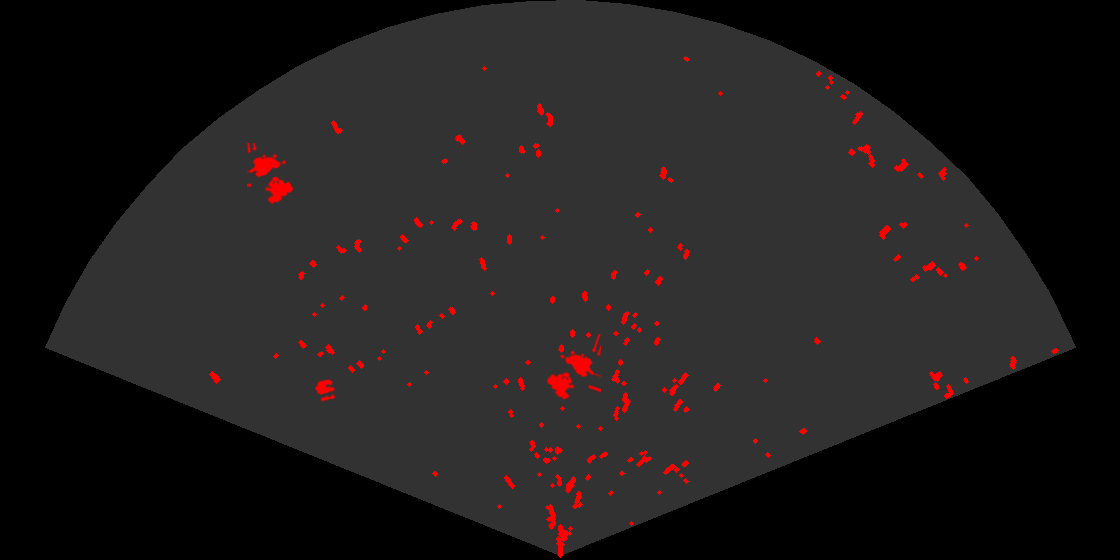ball: (313, 377, 337, 403)
cage: (545, 334, 601, 401), (247, 143, 295, 206)
